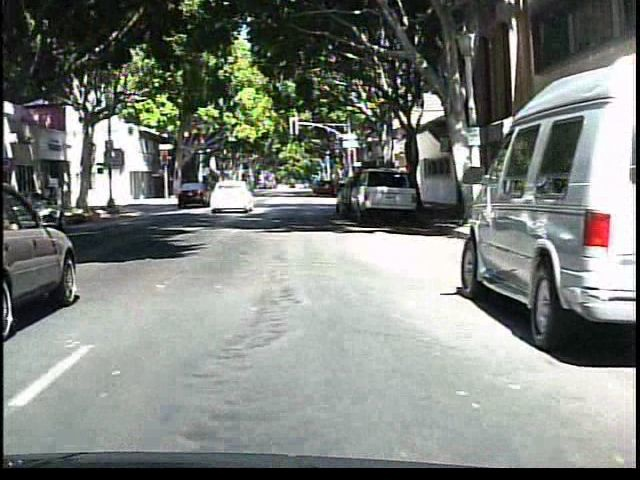person: (212, 171, 235, 209)
